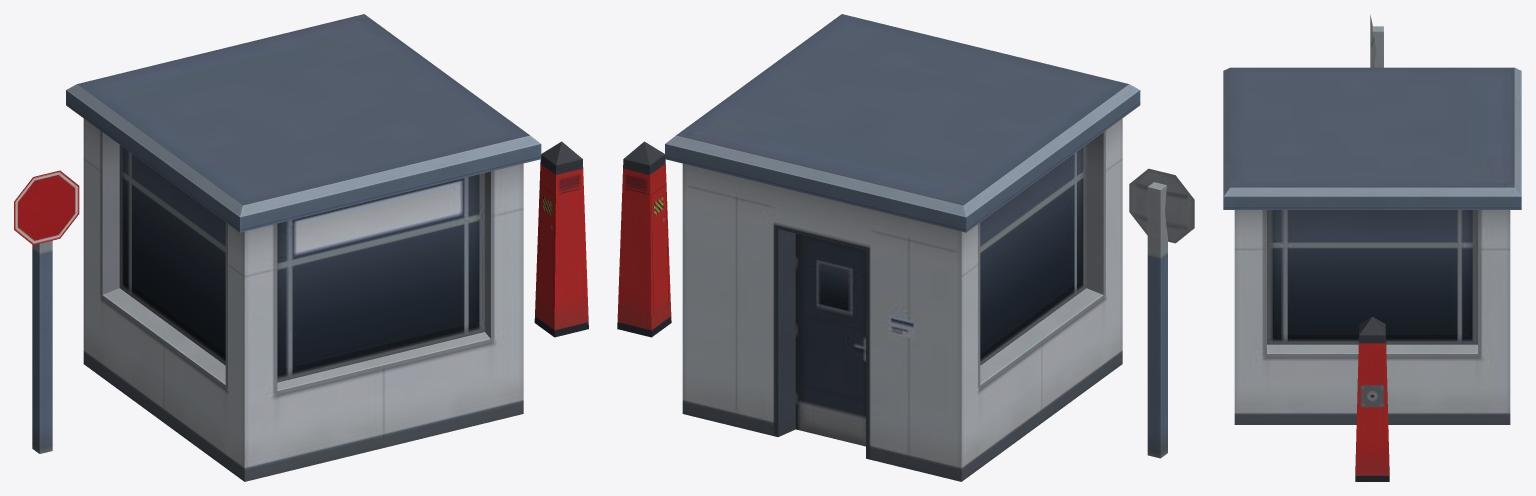
File: yard-guard-shack-body.glb
3 renders of one model, left to right at view 1: azimuth 30°, elevation 25°; view 2: azimuth 150°, elevation 25°; view 3: azimuth 270°, elevation 25°, orthographic. The views are drawn at different scales.
Visible parts, largest first — view 1: Yard-guard-shack-bodyBody; view 2: Yard-guard-shack-bodyBody; view 3: Yard-guard-shack-bodyBody.
Boxes of the visible parts, x1,y1,x2,y2 form: Yard-guard-shack-bodyBody: (14, 14, 588, 481); Yard-guard-shack-bodyBody: (617, 14, 1194, 481); Yard-guard-shack-bodyBody: (1223, 15, 1521, 481).
Bounding box in the file's own units: 6.58 × 3.1 × 3.5.
Materials: 1 (1 with a texture image).
